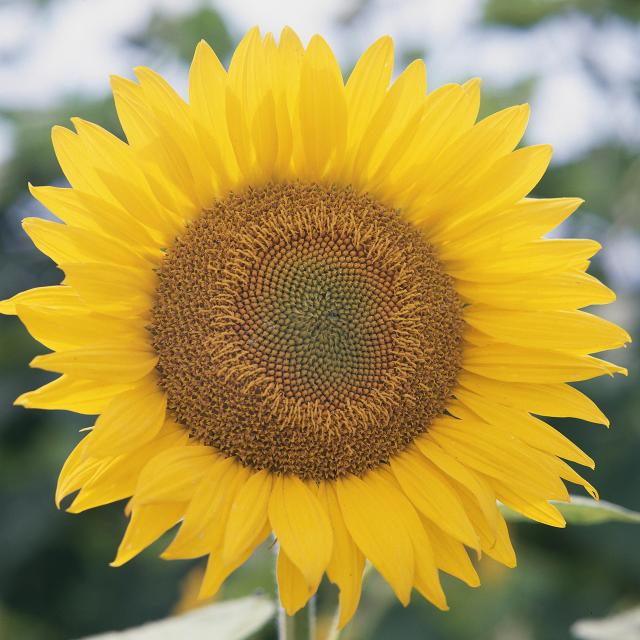sunflower: (10, 14, 632, 640)
